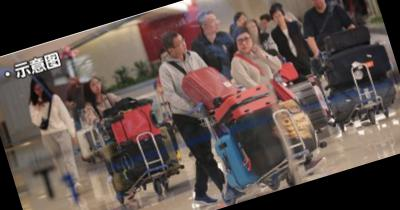without_mask: (234, 33, 256, 55), (205, 15, 222, 35), (173, 36, 189, 55), (89, 78, 104, 94), (246, 22, 260, 38), (33, 84, 46, 98), (272, 12, 285, 25), (235, 15, 248, 27), (260, 18, 271, 30)
